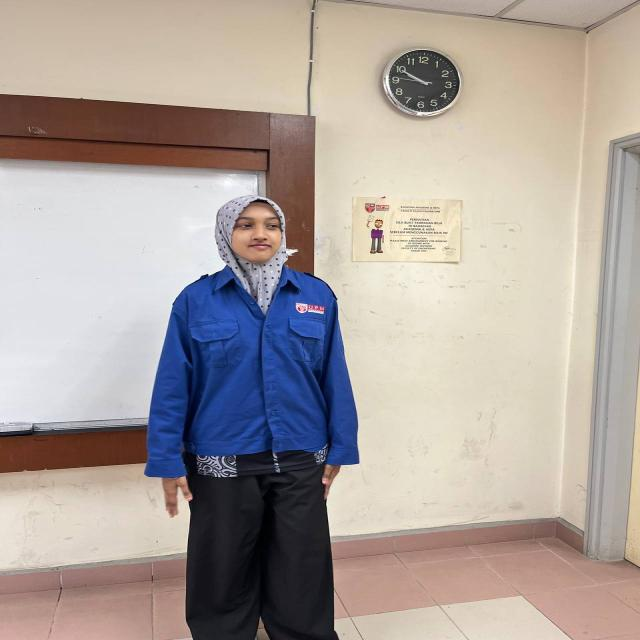person_with_labcoat: (145, 196, 359, 640)
